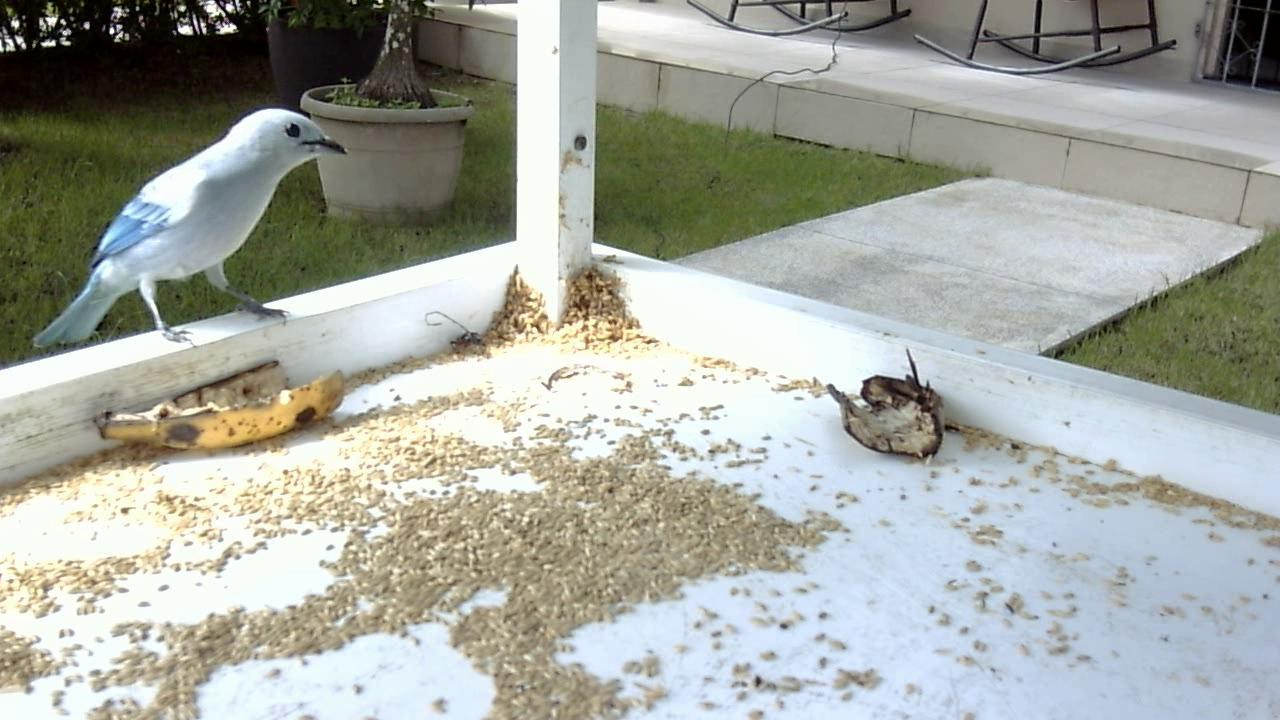sanhaco_da_amazonia: (26, 103, 343, 356)
